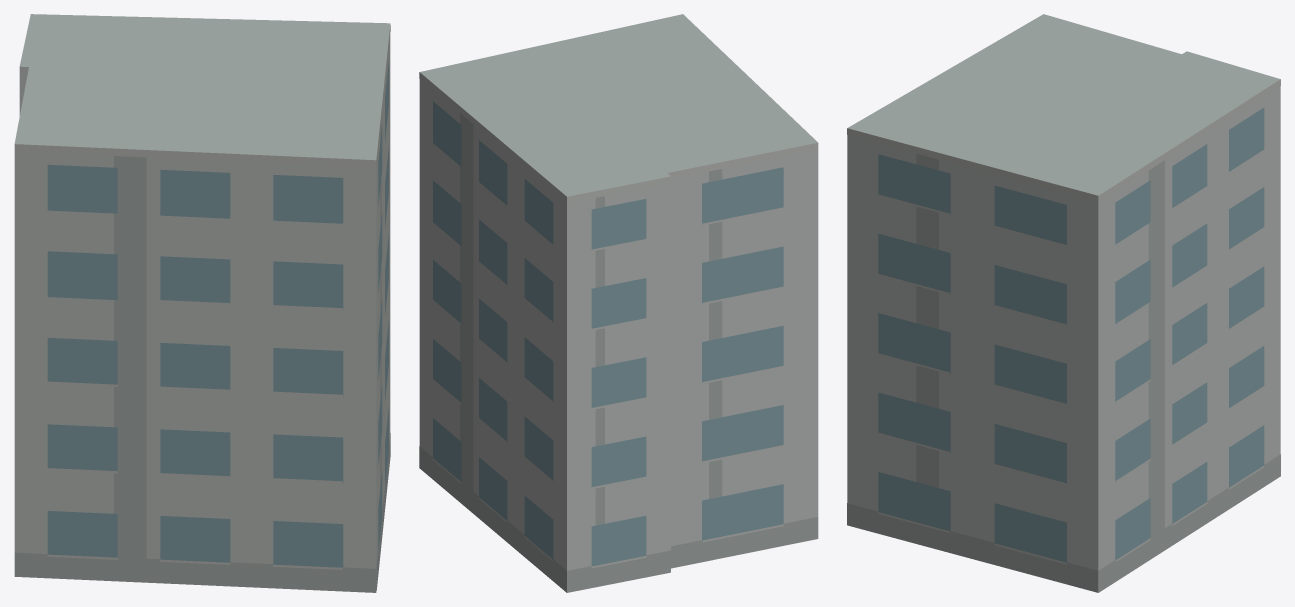
File: survey-upis-32995664.glb
The picture shows the model from 3 angles, left to right: view 1: azimuth 30°, elevation 25°; view 2: azimuth 150°, elevation 25°; view 3: azimuth 270°, elevation 25°; orthographic projection. The views are drawn at different scales.
Parts seen in each view (by area): view 1: survey-upis-32995664.tmp; view 2: survey-upis-32995664.tmp; view 3: survey-upis-32995664.tmp.
Part boxes in pixels (<box>): survey-upis-32995664.tmp: <box>14,14,390,592</box>; survey-upis-32995664.tmp: <box>419,14,818,592</box>; survey-upis-32995664.tmp: <box>847,14,1280,592</box>.
Size of the model in its own units: 13.95 by 14.2 by 14.06.
